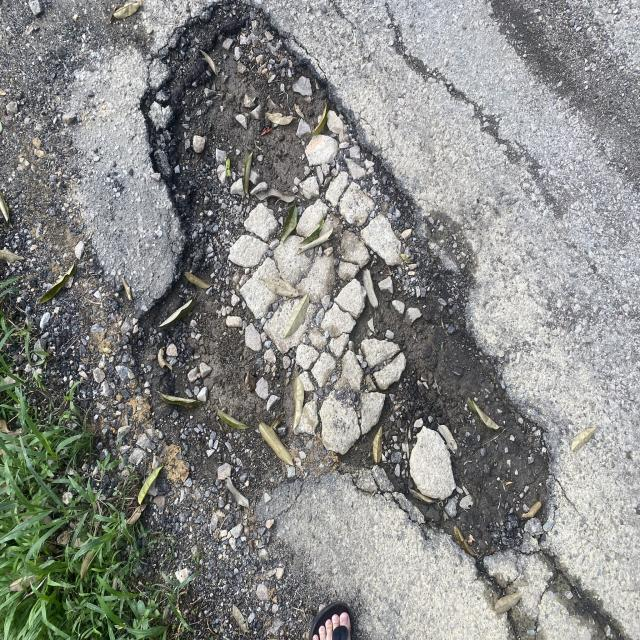Pothole: (98, 0, 510, 613)
